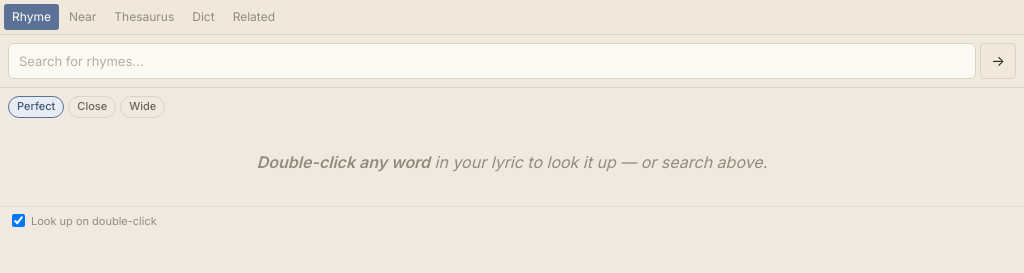
Tools results "used" state (C-44) › T-14.22: a rhyme result already collected into Inventory renders dimmed
The width and height of the screenshot is (1024, 273).
Type "light" into the field with test id "tools-search-input" at [492, 61], box [8,43,976,79]
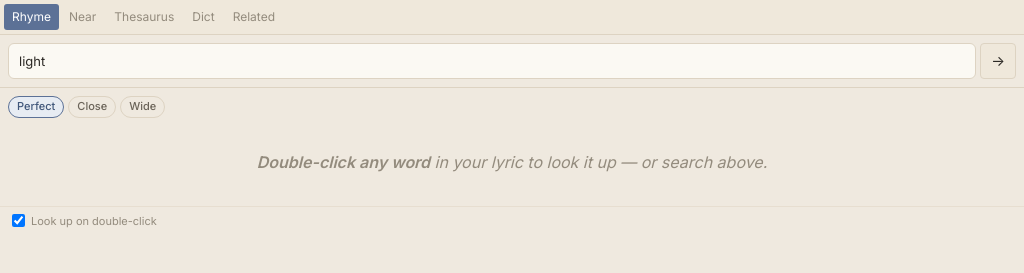
Click the button with test id "tools-search-button" at [998, 61], box [980,43,1016,79]
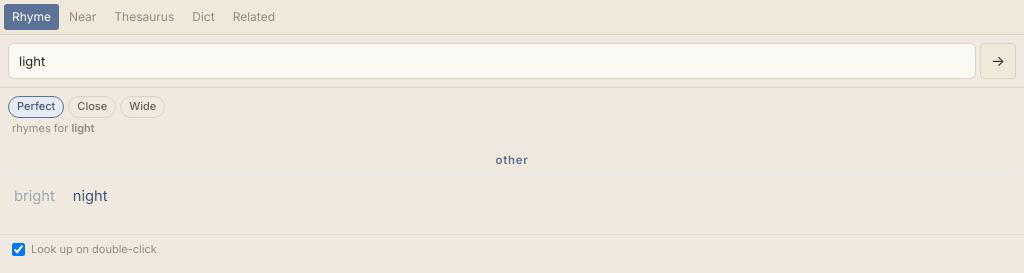
Expected: the button "bright" is shown, [12,182,57,212]
